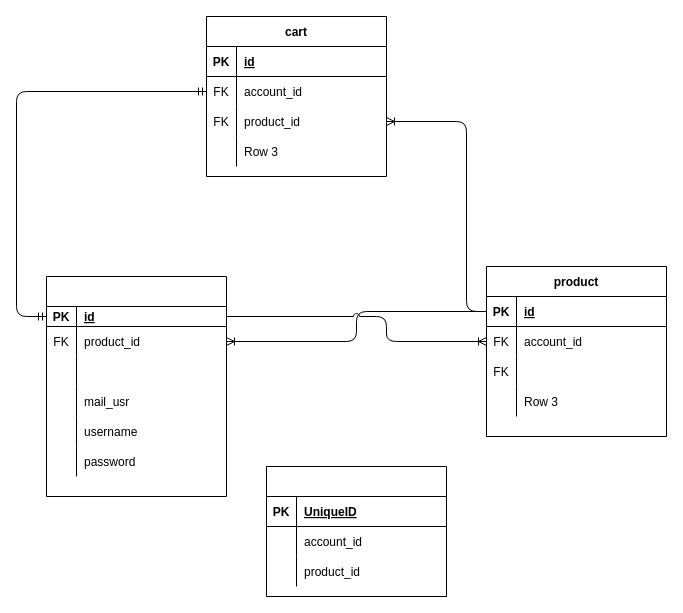
Image size: 683x613. Some labels were removed from this diagram. Each missing label, with the box of its shape:
account: (46, 276, 226, 496)
user_prod: (266, 466, 446, 596)
